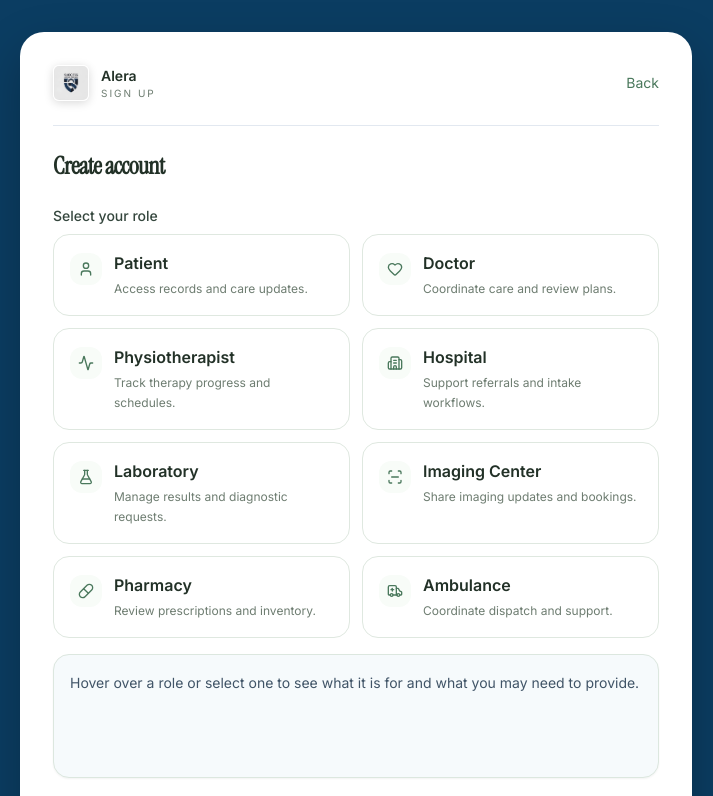
it: Signup page › shows professional license fields and excludes admin signup
The image size is (713, 796).
Click the button "Doctor Coordinate care and review plans.".
click(395, 269)  # box [362,234,659,316]
(page scrolled)
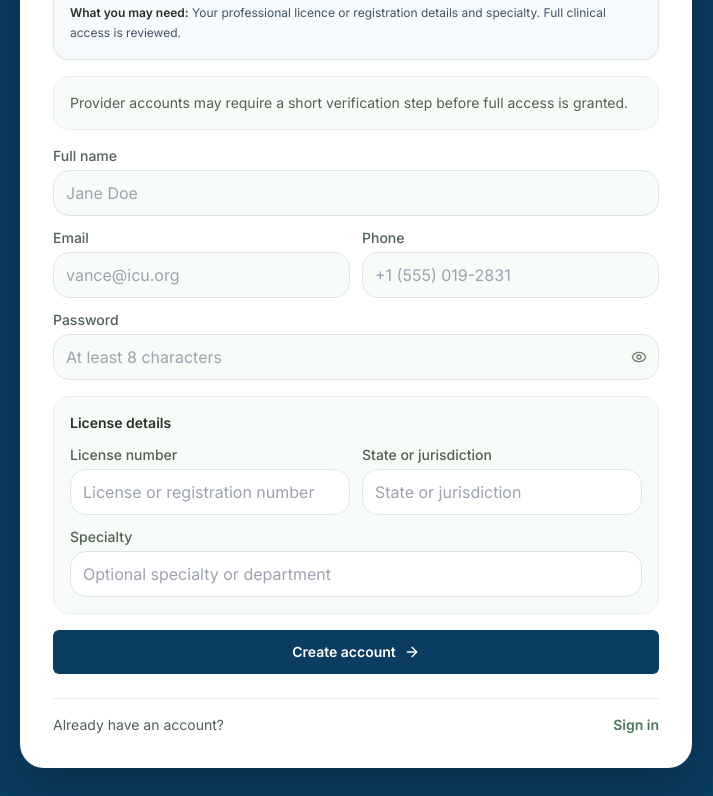
Expected: the text "License details" is shown, [70,414,171,431]
Expected: the field with placeholder "License or registration number" is shown, [70,469,350,515]
Expected: the field with placeholder "State or jurisdiction" is shown, [362,469,642,515]
